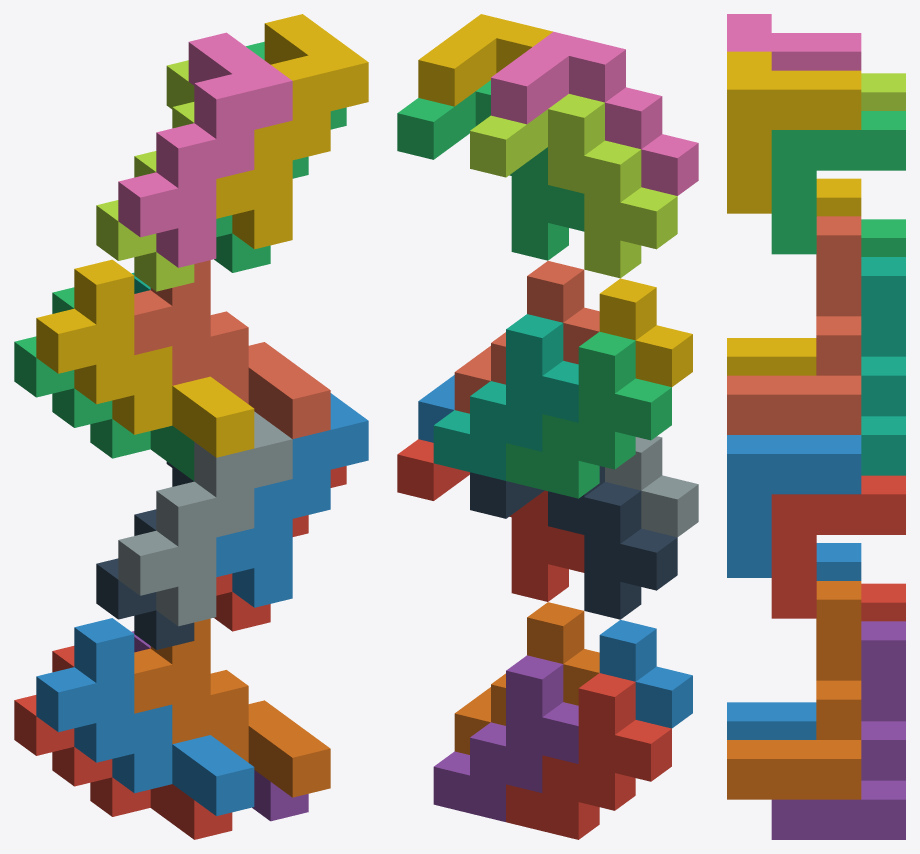
File: tiling.obj
3 views of the same model, side by side, from view 1: azimuth 30°, elevation 25°; view 2: azimuth 150°, elevation 25°; view 3: azimuth 270°, elevation 25° (orthographic). The views are drawn at different scales.
Parts seen in each view (by area): view 1: copy_2_domain_4, copy_1_domain_4, copy_1_domain_2, copy_2_domain_2, copy_2_domain_8, copy_1_domain_6, copy_1_domain_8, copy_2_domain_6, copy_1_domain_1, copy_1_domain_3, copy_2_domain_3, copy_2_domain_1 (+3 smaller); view 2: copy_2_domain_3, copy_2_domain_4, copy_1_domain_3, copy_1_domain_1, copy_1_domain_5, copy_1_domain_7, copy_2_domain_1, copy_2_domain_7, copy_2_domain_5, copy_2_domain_8, copy_1_domain_8, copy_1_domain_6 (+4 smaller); view 3: copy_1_domain_6, copy_1_domain_8, copy_1_domain_5, copy_2_domain_8, copy_2_domain_6, copy_2_domain_5, copy_2_domain_7, copy_1_domain_7, copy_1_domain_4, copy_1_domain_2, copy_2_domain_4, copy_1_domain_1 (+2 smaller).
Part boxes in pixels (x1,y1,x2,y2): copy_2_domain_4: (118,32,292,267); copy_1_domain_4: (36,259,254,457); copy_1_domain_2: (36,618,254,815); copy_2_domain_2: (118,411,292,626); copy_2_domain_8: (216,14,368,249); copy_1_domain_6: (134,618,330,797); copy_1_domain_8: (134,260,330,439); copy_2_domain_6: (216,393,368,607); copy_1_domain_1: (14,646,232,839); copy_1_domain_3: (14,287,194,480); copy_2_domain_3: (96,60,194,291); copy_2_domain_1: (96,461,194,649); copy_2_domain_3: (470,94,677,278); copy_2_domain_4: (491,31,698,195); copy_1_domain_3: (506,331,671,498); copy_1_domain_1: (506,673,671,839); copy_1_domain_5: (433,655,578,821); copy_1_domain_7: (433,314,578,480); copy_2_domain_1: (470,466,677,619); copy_2_domain_7: (397,80,584,260); copy_2_domain_5: (397,439,584,601); copy_2_domain_8: (418,14,552,106); copy_1_domain_8: (454,261,599,413); copy_1_domain_6: (454,602,599,754); copy_1_domain_6: (727,581,861,799); copy_1_domain_8: (727,216,861,434); copy_1_domain_5: (771,621,905,839); copy_2_domain_8: (727,51,861,213); copy_2_domain_6: (727,435,861,577); copy_2_domain_5: (771,475,905,618); copy_2_domain_7: (771,111,905,254); copy_1_domain_7: (861,257,905,475); copy_1_domain_4: (727,178,861,375); copy_1_domain_2: (727,543,861,739); copy_2_domain_4: (727,14,861,70); copy_1_domain_1: (861,583,905,621).
Size of the model in its own units: 7 by 19 by 4.
